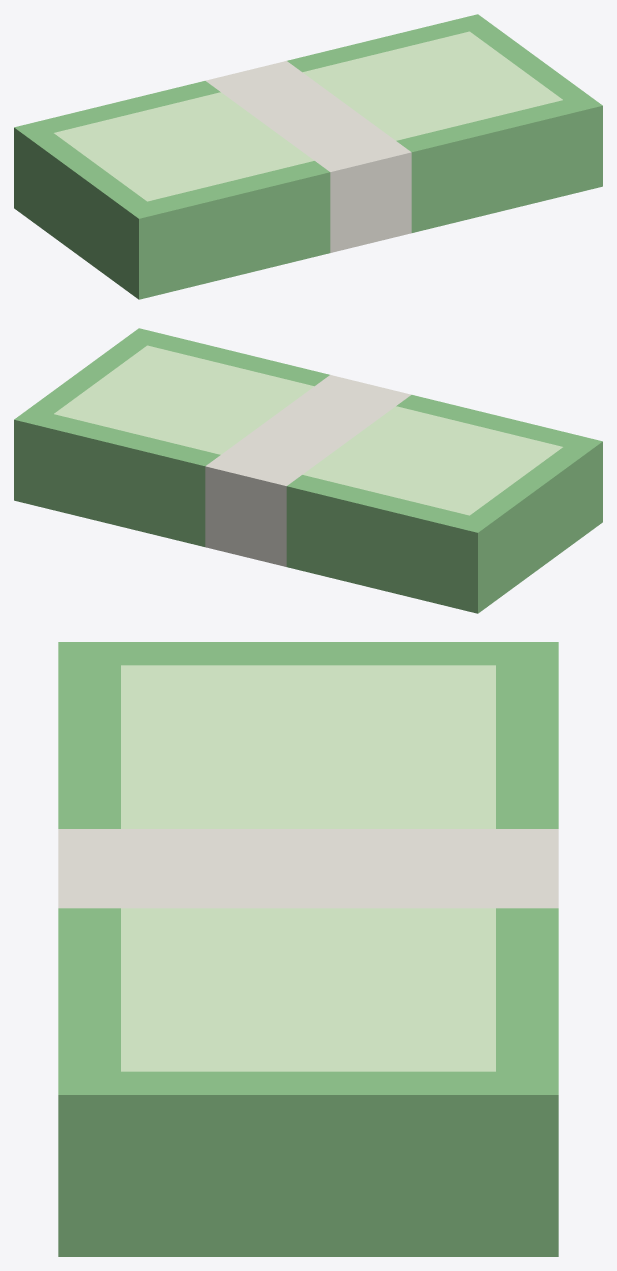
Rendered from Money.fbx.
3 renders of one model, top to bottom at view 1: azimuth 30°, elevation 25°; view 2: azimuth 150°, elevation 25°; view 3: azimuth 270°, elevation 25°, orthographic. The views are drawn at different scales.
Visible parts, largest first — view 1: Money; view 2: Money; view 3: Money.
Part boxes in pixels (x1,y1,x2,y2): Money: [14, 14, 602, 299]; Money: [14, 328, 602, 613]; Money: [58, 642, 558, 1256].
Size of the model in its own units: 0.15 by 0.025 by 0.07.
